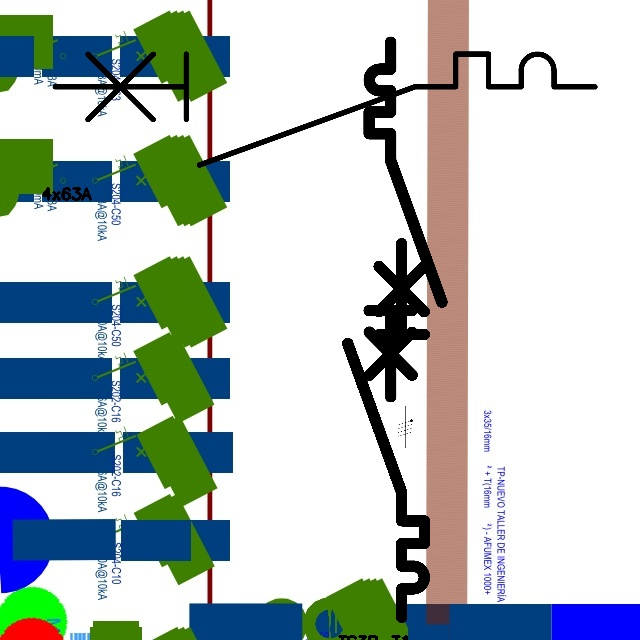interruptor_termomagnetico: (41, 40, 609, 179), (338, 234, 434, 627), (360, 33, 451, 406)
